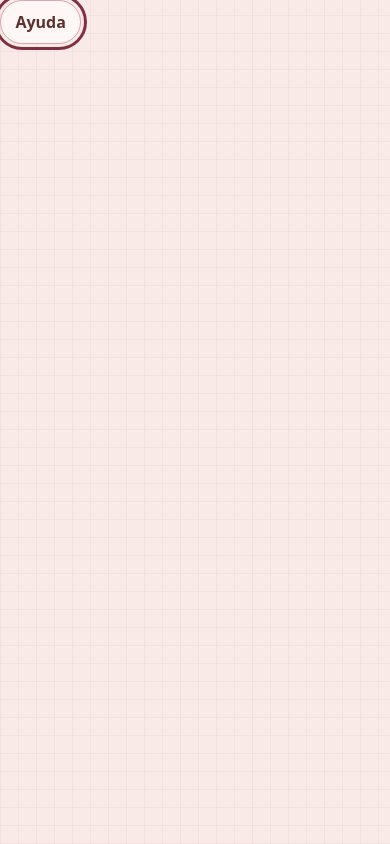
Test: WardrobeTutorial › closes with Escape and restores focus to Ayuda
Click the button "Ayuda".
click(41, 22)  # box [0, 0, 81, 44]
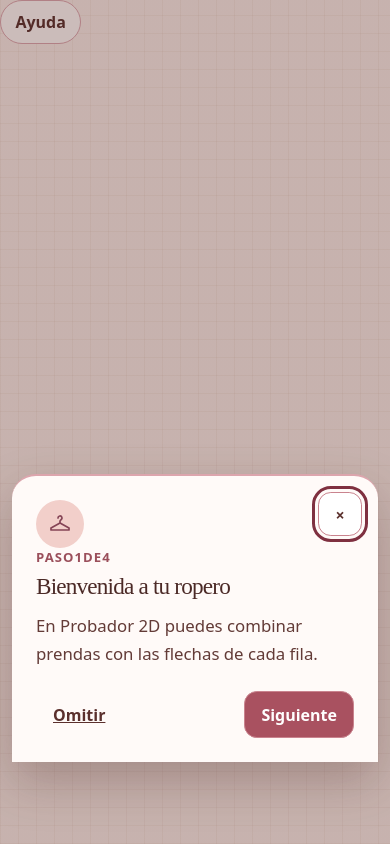
Press Escape
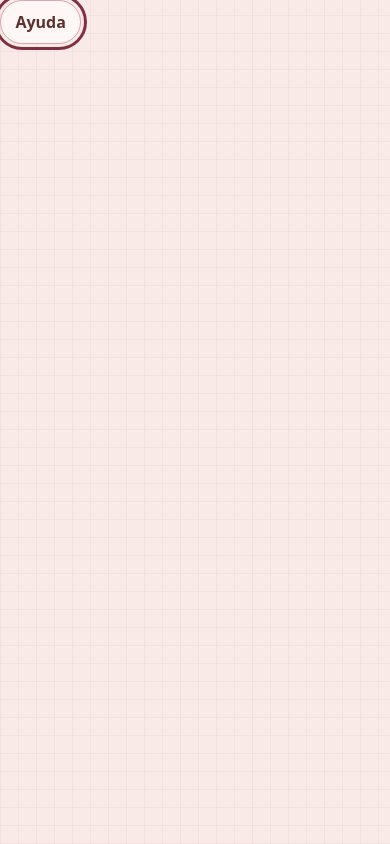
Check: the dialog is gone
